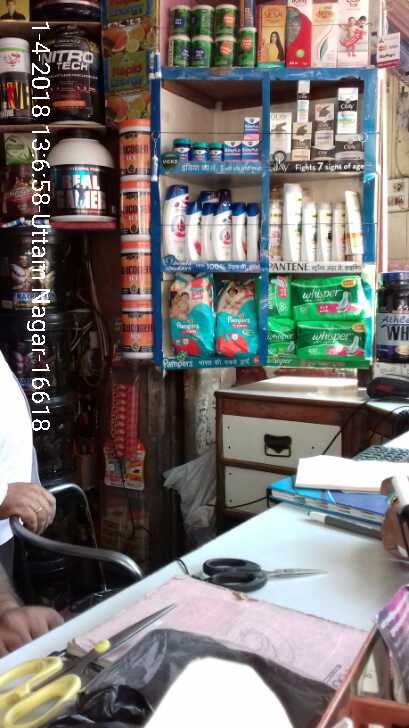vicks: (172, 114, 263, 161)
